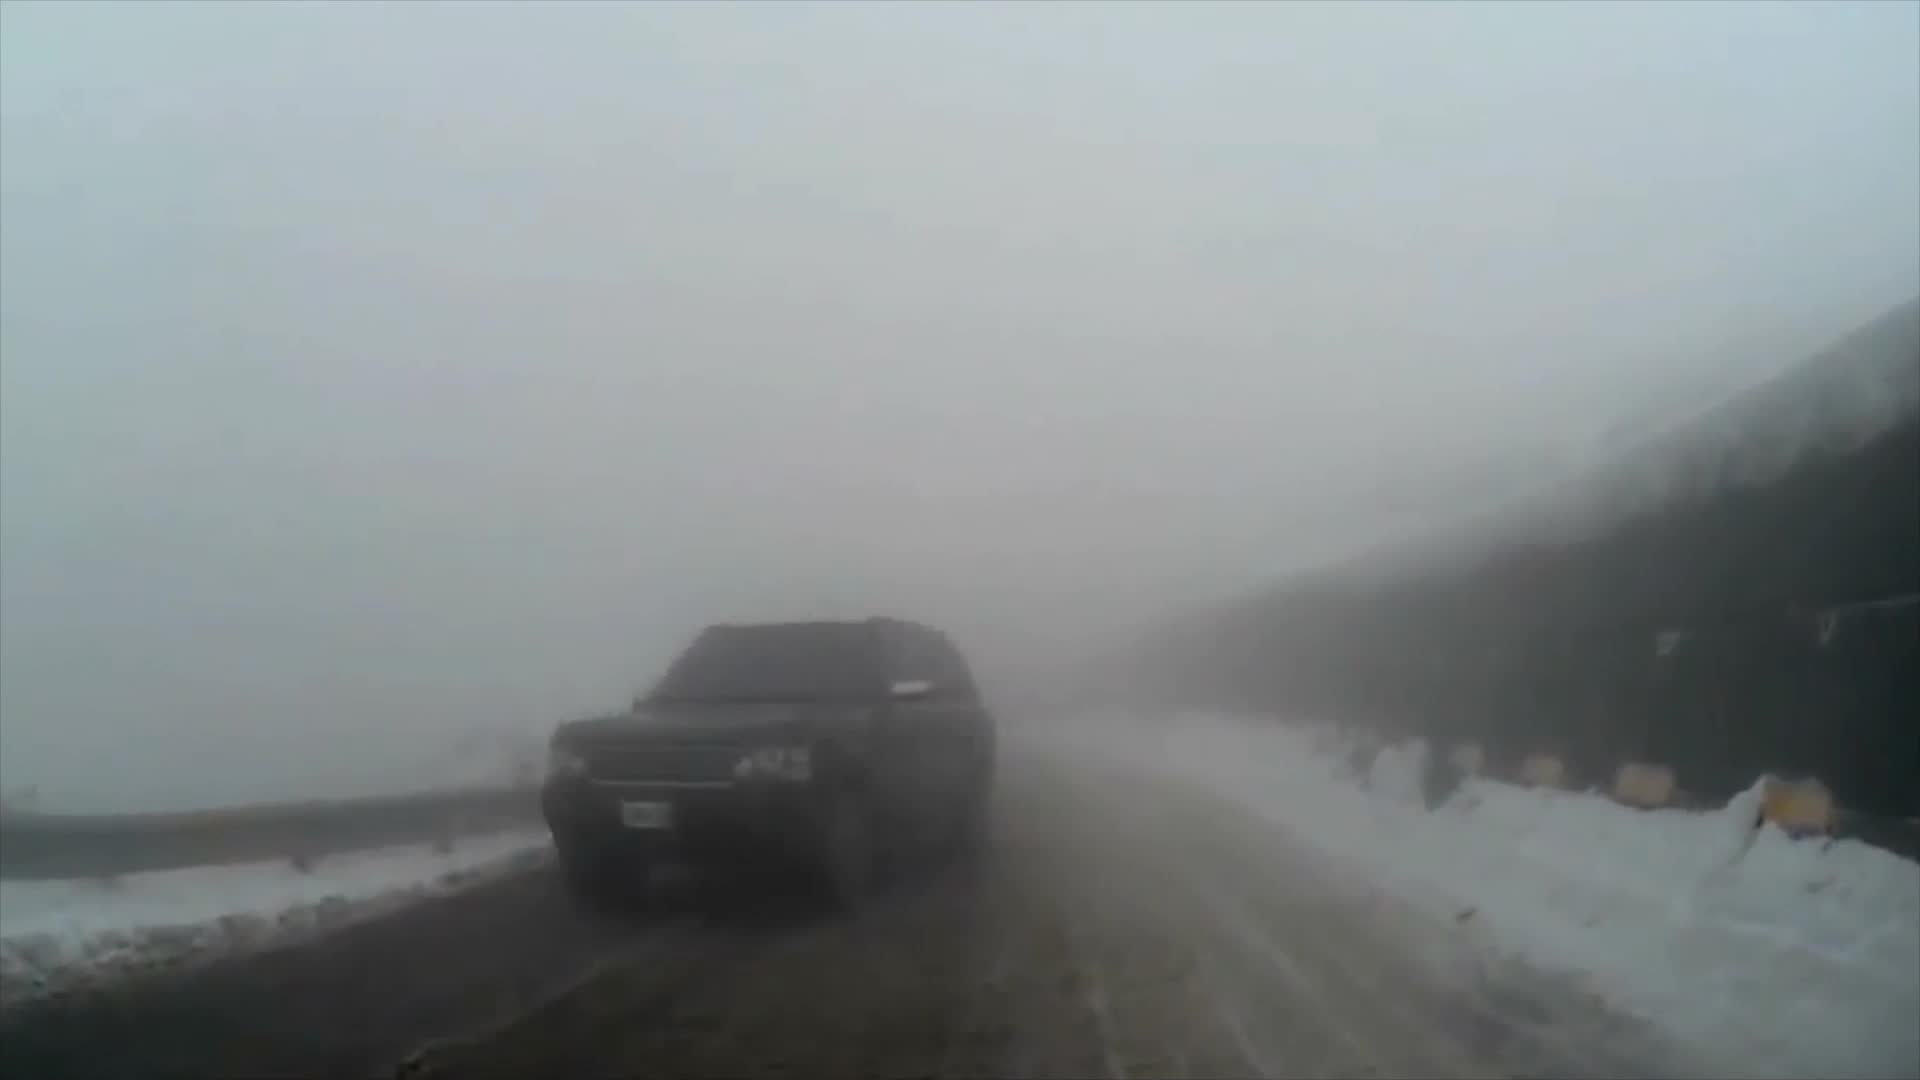vehicle: (546, 615, 997, 924)
